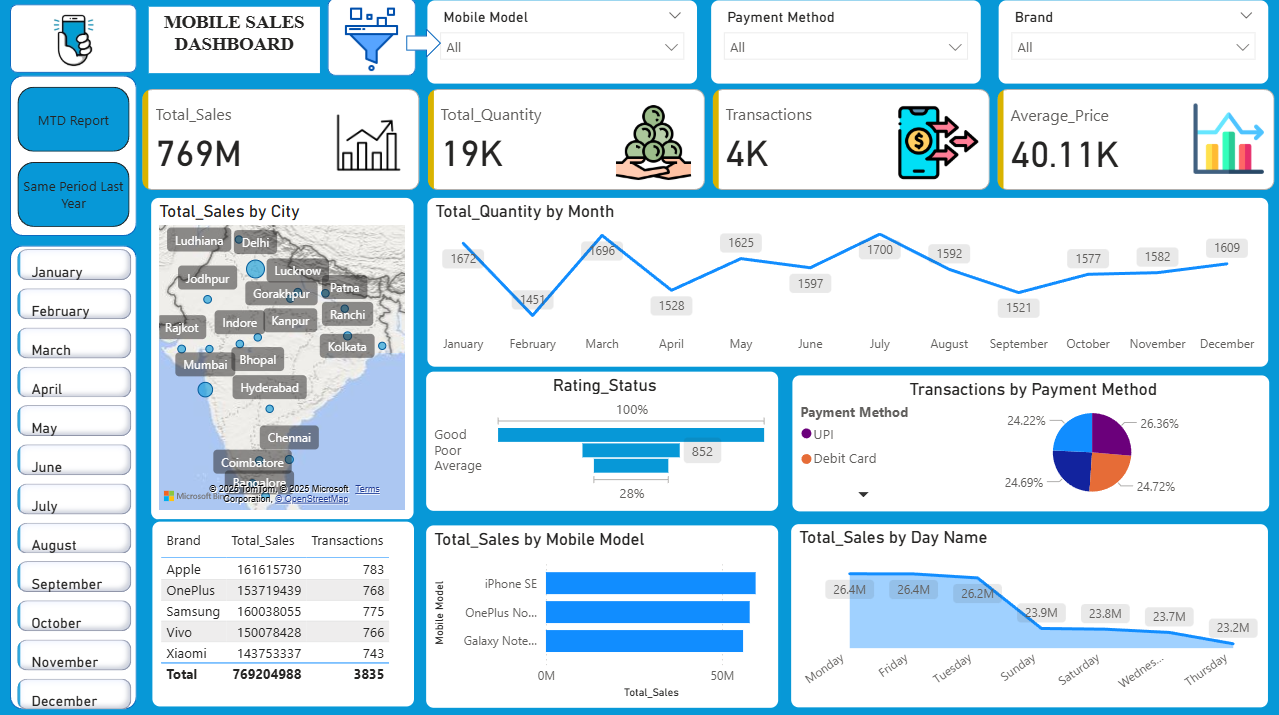

Layout of this report page (visuals, bound fields, positions):
{"tool":"powerbi","page":{"name":"Dashboard","canvas":[1280,720],"ordinal":0},"visuals":[{"type":"shape","box":[10.5,5.8,126.7,68.6],"z":0},{"type":"image","box":[31.4,3.5,84.9,74.4],"z":1000},{"type":"shape","box":[10.5,77.9,126.7,160.5],"z":2000},{"type":"shape","box":[10.5,247.7,126.7,464],"z":3000},{"type":"advancedSlicerVisual","fields":{"Values":["Custom_Calender.Date.Variation.Date Hierarchy.Month"]},"box":[12.8,246.5,124.4,473.3],"z":4000},{"type":"cardVisual","fields":{"Data":["Mobiles_Sales_Data.Total_Sales","Mobiles_Sales_Data.Total_Quantity","Mobiles_Sales_Data.Transactions","Mobiles_Sales_Data.Average_Price"]},"box":[137.2,86,1143,111.6],"z":5000},{"type":"slicer","fields":{"Values":["Mobiles_Sales_Data.Mobile Model"]},"box":[425.6,0,274.4,88.4],"z":6000},{"type":"slicer","fields":{"Values":["Mobiles_Sales_Data.Payment Method"]},"box":[709.3,0,274.4,88.4],"z":7000},{"type":"slicer","fields":{"Values":["Mobiles_Sales_Data.Brand"]},"box":[996.5,0,274.4,88.4],"z":8000},{"type":"shape","box":[148.8,8.1,170.9,66.3],"z":9000},{"type":"shape","box":[327.9,0,88.4,77.9],"z":10000},{"type":"image","box":[327.9,3.5,88.4,75.6],"z":11000},{"type":"shape","box":[405.8,30.2,34.9,30.2],"z":12000},{"type":"textbox","box":[148.8,8.1,170.9,66.3],"z":13000},{"type":"map","fields":{"Category":["Mobiles_Sales_Data.City"],"Size":["Mobiles_Sales_Data.Total_Sales"]},"box":[148.2,197.6,267.6,326.6],"z":14000},{"type":"lineChart","fields":{"Category":["Custom_Calender.Date.Variation.Date Hierarchy.Month"],"Y":["Mobiles_Sales_Data.Total_Quantity"]},"box":[425.6,197.7,845.4,173.3],"z":15000},{"type":"funnel","title":"Rating_Status","fields":{"Y":["CountNonNull(Mobiles_Sales_Data.Customer Age)"],"Category":["Mobiles_Sales_Data.Rating_status"]},"box":[423.3,370.9,357,144.2],"z":16000},{"type":"pieChart","fields":{"Category":["Mobiles_Sales_Data.Payment Method"],"Y":["Mobiles_Sales_Data.Transactions"]},"box":[789.5,374.4,481.4,140.7],"z":17000},{"type":"clusteredBarChart","fields":{"Y":["Mobiles_Sales_Data.Total_Sales"],"Category":["Mobiles_Sales_Data.Mobile Model"]},"box":[423.3,524.4,357,187.2],"z":18000},{"type":"areaChart","fields":{"Category":["Custom_Calender.Day Name"],"Y":["Mobiles_Sales_Data.Total_Sales"]},"box":[789,524.2,481.6,188],"z":19000},{"type":"tableEx","fields":{"Values":["Mobiles_Sales_Data.Brand","Mobiles_Sales_Data.Total_Sales","Mobiles_Sales_Data.Transactions"]},"box":[149.6,521.4,266.2,189.4],"z":20000},{"type":"pageNavigator","box":[17.5,88.8,112.5,141.2],"z":20001}]}

Visuals, with their boxes in screenshot pixels (x1, y1, x2, y2), scaled from the page's 1280x720 canvas onto the 1279x715 screenshot:
shape: bbox=(10, 6, 137, 74)
image: bbox=(31, 3, 116, 77)
shape: bbox=(10, 77, 137, 237)
shape: bbox=(10, 246, 137, 707)
advancedSlicerVisual - Custom_Calender.Date.Variation.Date Hierarchy.Month: bbox=(13, 245, 137, 714)
cardVisual - Mobiles_Sales_Data.Total_Sales x Mobiles_Sales_Data.Total_Quantity: bbox=(137, 85, 1278, 196)
slicer - Mobiles_Sales_Data.Mobile Model: bbox=(425, 0, 699, 88)
slicer - Mobiles_Sales_Data.Payment Method: bbox=(709, 0, 983, 88)
slicer - Mobiles_Sales_Data.Brand: bbox=(996, 0, 1270, 88)
shape: bbox=(149, 8, 319, 74)
shape: bbox=(328, 0, 416, 77)
image: bbox=(328, 3, 416, 79)
shape: bbox=(405, 30, 440, 60)
textbox: bbox=(149, 8, 319, 74)
map - Mobiles_Sales_Data.City x Mobiles_Sales_Data.Total_Sales: bbox=(148, 196, 415, 521)
lineChart - Custom_Calender.Date.Variation.Date Hierarchy.Month x Mobiles_Sales_Data.Total_Quantity: bbox=(425, 196, 1270, 368)
"Rating_Status" funnel: bbox=(423, 368, 780, 512)
pieChart - Mobiles_Sales_Data.Payment Method x Mobiles_Sales_Data.Transactions: bbox=(789, 372, 1270, 512)
clusteredBarChart - Mobiles_Sales_Data.Total_Sales x Mobiles_Sales_Data.Mobile Model: bbox=(423, 521, 780, 707)
areaChart - Custom_Calender.Day Name x Mobiles_Sales_Data.Total_Sales: bbox=(788, 521, 1270, 707)
tableEx - Mobiles_Sales_Data.Brand x Mobiles_Sales_Data.Total_Sales: bbox=(149, 518, 415, 706)
pageNavigator: bbox=(17, 88, 130, 228)
